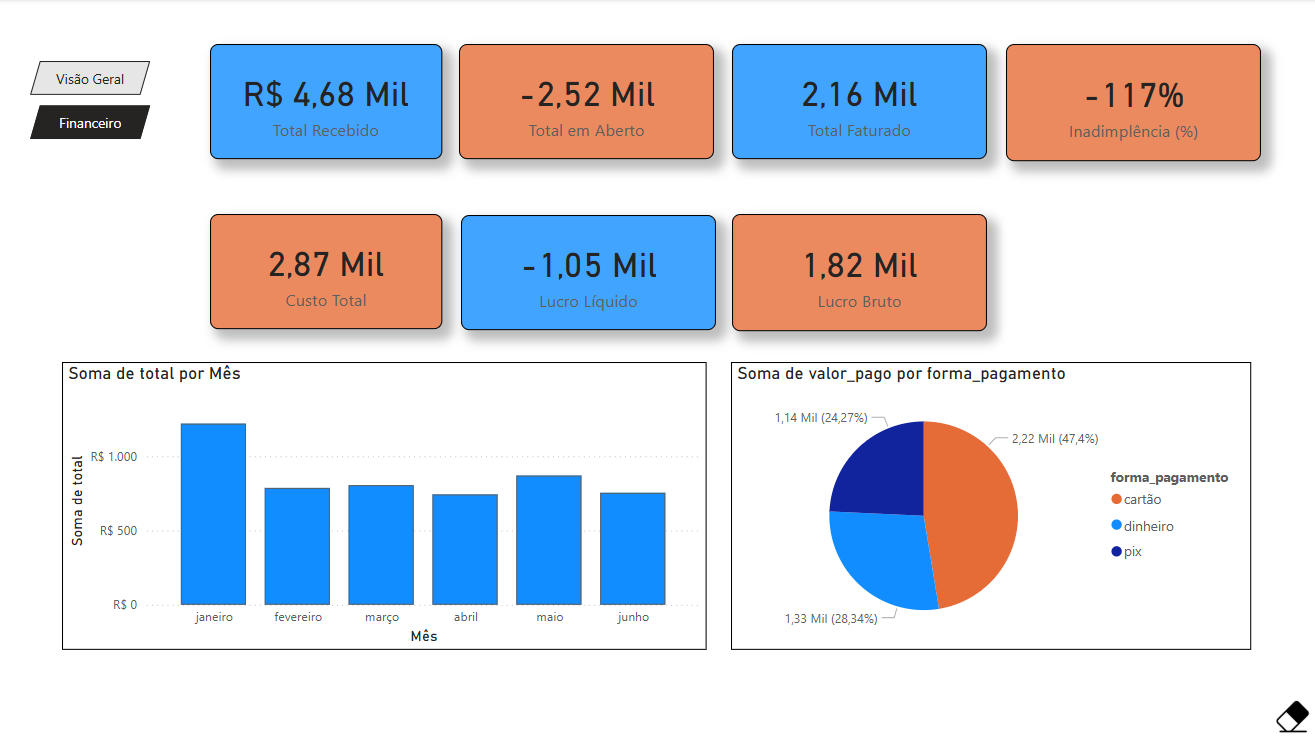

Layout of this report page (visuals, bound fields, positions):
{"tool":"powerbi","page":{"name":"Financeiro","canvas":[1280,720],"ordinal":1},"visuals":[{"type":"columnChart","fields":{"Category":["public pedidos.data.Variation.Hierarquia de datas.Mês"],"Y":["Sum(public pedidos.total)"]},"box":[61.3,353.1,627.4,280.1],"z":0},{"type":"pieChart","fields":{"Category":["public pagamentos.forma_pagamento"],"Y":["Sum(public pagamentos.valor_pago)"]},"box":[712,353.1,505.8,280.1],"z":1000},{"type":"card","fields":{"Values":["Medida.Total Faturado"]},"box":[712.9,43.8,248,111.9],"z":2000},{"type":"card","fields":{"Values":["Medida.Total Recebido"]},"box":[205.2,43.8,225.7,111.9],"z":3000},{"type":"card","fields":{"Values":["Medida.Total em Aberto"]},"box":[447.4,43.8,248,111.9],"z":4000},{"type":"card","fields":{"Values":["Medida.Lucro Bruto"]},"box":[712.9,209.1,248,113.8],"z":5000},{"type":"card","fields":{"Values":["Medida.Lucro Líquido"]},"box":[449.4,210.1,248,111.9],"z":6000},{"type":"card","fields":{"Values":["Medida.Custo Total"]},"box":[205.2,209.1,225.7,111.9],"z":7000},{"type":"pageNavigator","box":[30.2,60.3,117.7,76.8],"z":8000},{"type":"card","fields":{"Values":["Medida.Inadimplência (%)"]},"box":[979.5,43.8,248,113.8],"z":9000},{"type":"image","box":[1236.2,676,43.8,43.8],"z":9001}]}

Visuals, with their boxes in screenshot pixels (x1, y1, x2, y2), scaled from the page's 1280x720 canvas onto the 1315x737 screenshot:
columnChart - public pedidos.data.Variation.Hierarquia de datas.Mês x Sum(public pedidos.total): BBox(63, 361, 708, 648)
pieChart - public pagamentos.forma_pagamento x Sum(public pagamentos.valor_pago): BBox(731, 361, 1251, 648)
card - Medida.Total Faturado: BBox(732, 45, 987, 159)
card - Medida.Total Recebido: BBox(211, 45, 443, 159)
card - Medida.Total em Aberto: BBox(460, 45, 714, 159)
card - Medida.Lucro Bruto: BBox(732, 214, 987, 331)
card - Medida.Lucro Líquido: BBox(462, 215, 716, 330)
card - Medida.Custo Total: BBox(211, 214, 443, 329)
pageNavigator: BBox(31, 62, 152, 140)
card - Medida.Inadimplência (%): BBox(1006, 45, 1261, 161)
image: BBox(1270, 692, 1314, 736)
